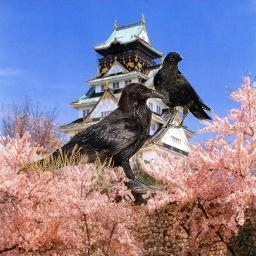Crow: (21, 82, 169, 193), (152, 51, 213, 129)
